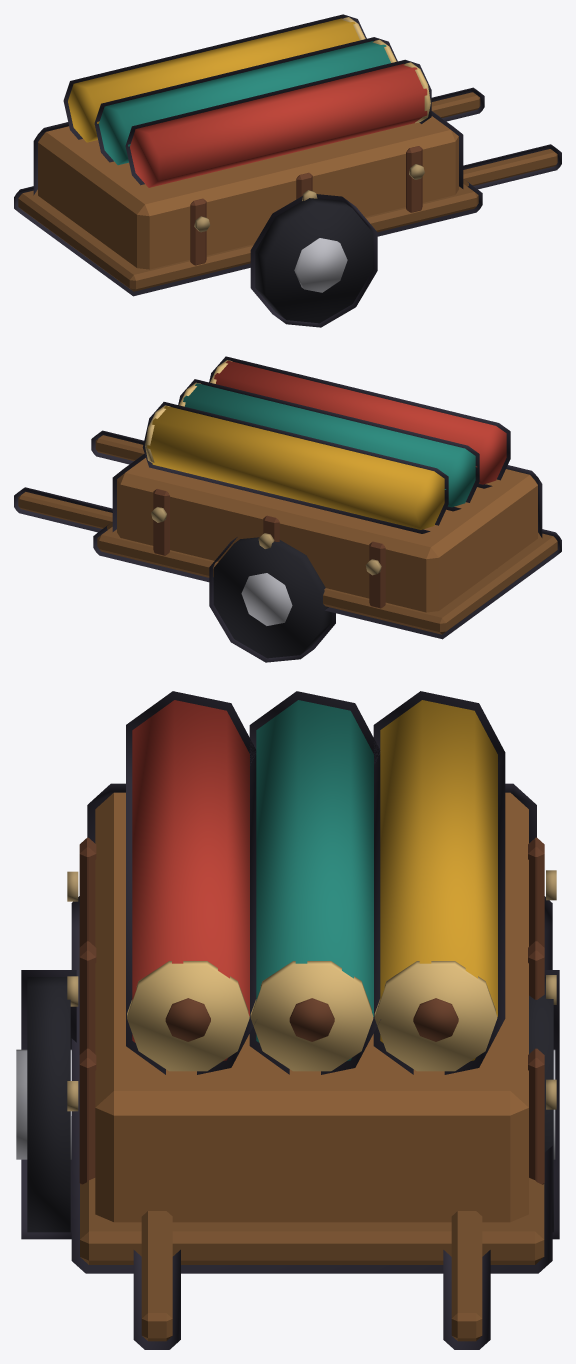
File: cart.glb
The picture shows the model from 3 angles, top to bottom: view 1: azimuth 30°, elevation 25°; view 2: azimuth 150°, elevation 25°; view 3: azimuth 270°, elevation 25°; orthographic projection. The views are drawn at different scales.
Visible parts, largest first — view 1: cart; view 2: cart; view 3: cart.
Boxes of the visible parts, left/top/right/bottom form: cart: left=14, top=14, right=561, bottom=327; cart: left=14, top=356, right=561, bottom=662; cart: left=16, top=691, right=559, bottom=1349.
Size of the model in its own units: 3.35 by 1.44 by 1.75.
